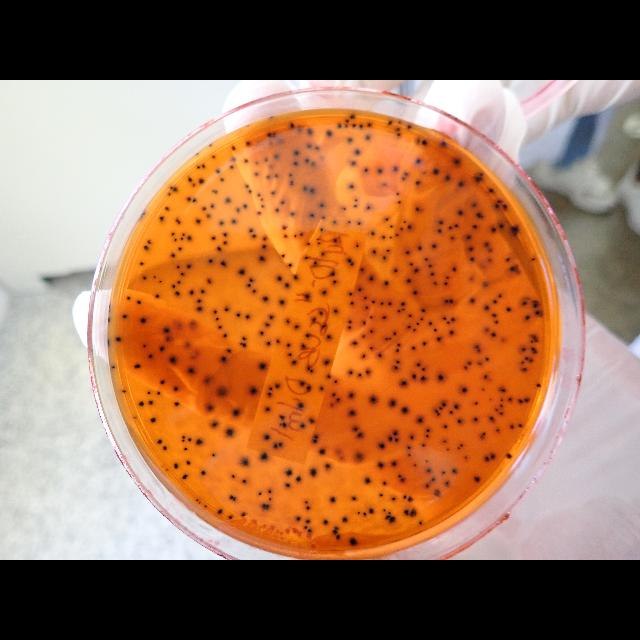colony: (222, 424, 238, 440), (213, 385, 230, 399), (352, 450, 366, 464), (206, 418, 222, 430), (202, 373, 214, 387), (230, 407, 243, 419), (247, 385, 260, 397), (185, 364, 197, 376), (166, 354, 178, 366), (258, 451, 270, 462), (188, 318, 200, 329), (204, 402, 216, 412), (452, 156, 462, 168), (308, 467, 318, 478), (240, 457, 250, 467), (262, 432, 272, 442), (388, 398, 398, 408), (368, 395, 378, 405), (328, 494, 338, 504), (376, 460, 386, 470), (302, 292, 312, 302), (375, 167, 385, 176), (258, 362, 268, 371), (378, 440, 387, 450), (333, 448, 342, 457), (352, 148, 362, 156), (400, 406, 410, 414), (317, 447, 327, 455), (284, 468, 294, 476), (260, 502, 270, 510), (348, 538, 358, 546), (433, 488, 441, 498), (438, 140, 448, 148), (456, 180, 466, 188), (480, 280, 490, 288), (174, 321, 182, 331), (436, 373, 446, 381), (337, 454, 345, 464), (195, 438, 203, 447), (363, 133, 372, 141), (399, 379, 408, 387), (363, 477, 372, 485), (432, 168, 441, 176), (348, 409, 357, 417), (409, 508, 416, 518), (200, 469, 208, 477), (139, 316, 147, 324), (142, 244, 150, 252), (162, 326, 170, 334), (262, 295, 270, 303), (238, 268, 246, 276), (230, 218, 238, 226), (224, 196, 232, 204), (293, 149, 301, 157), (305, 142, 313, 150), (306, 128, 314, 136), (325, 129, 333, 137), (346, 136, 354, 144), (392, 165, 400, 173), (430, 242, 438, 250), (347, 391, 355, 399), (258, 254, 266, 262), (329, 270, 337, 278), (323, 358, 331, 366), (473, 475, 481, 483), (390, 459, 398, 467), (460, 386, 468, 394), (347, 182, 355, 190), (444, 174, 452, 182), (194, 348, 202, 356), (498, 222, 506, 230), (511, 224, 519, 232), (132, 363, 142, 369), (194, 218, 202, 225), (349, 160, 357, 167), (400, 175, 408, 182), (456, 210, 464, 217), (509, 264, 516, 272), (190, 354, 197, 361), (272, 443, 280, 449), (173, 462, 179, 470), (156, 438, 164, 444), (150, 416, 156, 424), (115, 336, 123, 342), (159, 215, 165, 223), (189, 288, 195, 296), (195, 306, 203, 312), (220, 356, 228, 362), (164, 336, 172, 342), (158, 346, 166, 352), (278, 299, 286, 305), (197, 178, 205, 184), (230, 157, 238, 163), (293, 160, 299, 168), (289, 122, 295, 130), (296, 125, 302, 133), (362, 167, 370, 173), (414, 206, 422, 212), (412, 268, 420, 274), (419, 375, 427, 381), (410, 373, 418, 379), (298, 381, 306, 387), (297, 402, 305, 408), (264, 406, 272, 412), (278, 414, 286, 420), (300, 422, 306, 430), (308, 416, 314, 424), (311, 438, 319, 444), (324, 463, 332, 469), (295, 476, 303, 482), (240, 511, 248, 517), (216, 508, 224, 514), (302, 184, 308, 192), (310, 186, 316, 194), (276, 275, 284, 281), (388, 517, 396, 523), (404, 508, 410, 516), (387, 435, 393, 443), (505, 453, 513, 459), (452, 404, 460, 410), (416, 417, 424, 423), (356, 432, 364, 438), (352, 426, 360, 432), (320, 289, 328, 295), (366, 204, 372, 212), (386, 120, 394, 126), (420, 140, 428, 146), (474, 176, 482, 182), (502, 202, 508, 210), (475, 212, 483, 218), (468, 297, 476, 303), (490, 331, 498, 337), (484, 326, 490, 334), (182, 474, 188, 481), (138, 399, 144, 406), (148, 399, 154, 406), (170, 252, 177, 258), (183, 342, 190, 348), (187, 175, 193, 182), (245, 141, 252, 147), (205, 278, 212, 284), (248, 228, 255, 234), (484, 305, 491, 311), (479, 434, 485, 441), (416, 158, 422, 165), (491, 225, 497, 232), (279, 440, 283, 450), (231, 474, 237, 480), (241, 478, 247, 484), (210, 452, 216, 458), (185, 460, 191, 466), (162, 445, 168, 451), (183, 446, 189, 452), (160, 379, 166, 385), (174, 401, 180, 407), (148, 353, 154, 359), (110, 364, 116, 370), (122, 313, 128, 319), (146, 239, 152, 245), (164, 206, 170, 212), (174, 290, 180, 296), (226, 348, 232, 354), (241, 336, 247, 342), (266, 340, 272, 346), (269, 314, 275, 320), (220, 260, 226, 266), (208, 258, 214, 264), (216, 246, 222, 252), (219, 220, 225, 226), (206, 213, 212, 219), (201, 206, 207, 212), (209, 203, 215, 209), (192, 197, 198, 203), (187, 196, 193, 202), (172, 186, 178, 192), (215, 168, 221, 174), (231, 145, 237, 151), (256, 210, 262, 216), (270, 190, 276, 196), (304, 158, 310, 164), (337, 122, 343, 128), (350, 114, 356, 120), (358, 123, 364, 129), (366, 122, 372, 128), (403, 171, 409, 177), (382, 182, 388, 188), (406, 224, 412, 230), (417, 245, 423, 251), (432, 280, 438, 286), (406, 278, 412, 284), (412, 290, 418, 296), (416, 362, 422, 368), (420, 366, 426, 372), (326, 374, 332, 380), (348, 370, 354, 376), (274, 383, 280, 389), (313, 434, 319, 440), (285, 482, 291, 488), (228, 514, 234, 520), (236, 312, 242, 318), (319, 202, 325, 208), (309, 212, 315, 218), (320, 215, 326, 221), (281, 225, 287, 231), (282, 233, 288, 239), (332, 237, 338, 243), (312, 260, 318, 266), (293, 274, 299, 280), (284, 282, 290, 288), (352, 340, 358, 346), (326, 334, 332, 340), (228, 494, 234, 500), (296, 516, 302, 522), (323, 519, 329, 525), (335, 534, 341, 540), (341, 516, 347, 522), (368, 508, 374, 514), (384, 514, 390, 520), (392, 430, 398, 436), (484, 456, 490, 462), (490, 453, 496, 459), (473, 416, 479, 422), (457, 418, 463, 424), (489, 415, 495, 421), (536, 382, 542, 388), (318, 310, 324, 316), (370, 231, 376, 237), (332, 220, 338, 226), (352, 203, 358, 209), (407, 124, 413, 130), (395, 126, 401, 132), (396, 132, 402, 138), (488, 187, 494, 193), (496, 198, 502, 204), (494, 203, 500, 209), (471, 202, 477, 208), (466, 234, 472, 240), (468, 246, 474, 252), (469, 256, 475, 262), (451, 266, 457, 272), (448, 298, 454, 304), (450, 316, 456, 322), (492, 298, 498, 304), (506, 306, 512, 312), (520, 346, 526, 352), (528, 357, 534, 363), (524, 314, 530, 320), (535, 310, 541, 316), (522, 300, 528, 306), (532, 302, 538, 308), (383, 280, 389, 286), (415, 180, 421, 186), (512, 231, 518, 237), (484, 241, 490, 247), (505, 256, 511, 262), (500, 337, 506, 343), (474, 343, 480, 349), (476, 347, 482, 353), (484, 356, 490, 362), (476, 360, 482, 366), (522, 366, 528, 372), (449, 329, 455, 335), (106, 338, 110, 346), (107, 316, 111, 324), (392, 366, 400, 370), (290, 360, 298, 364), (530, 334, 538, 338), (306, 504, 310, 512), (188, 437, 192, 443), (174, 386, 178, 392), (136, 300, 142, 304), (126, 296, 132, 300), (154, 294, 160, 298), (186, 236, 192, 240), (186, 264, 192, 268), (172, 284, 176, 290), (201, 289, 205, 295), (197, 298, 201, 304), (212, 310, 218, 314), (222, 334, 228, 338), (276, 338, 280, 344), (286, 343, 292, 347), (300, 344, 306, 348), (294, 324, 300, 328), (286, 318, 290, 324), (266, 322, 270, 328), (246, 283, 252, 287), (222, 241, 228, 245), (222, 232, 228, 236), (200, 164, 206, 168), (244, 158, 248, 164), (254, 172, 260, 176), (244, 184, 250, 188), (242, 204, 248, 208), (274, 208, 280, 212), (280, 200, 286, 204), (288, 173, 294, 177), (274, 174, 280, 178), (310, 162, 316, 166), (314, 146, 320, 150), (396, 200, 402, 204), (400, 302, 406, 306), (436, 337, 442, 341), (411, 346, 417, 350), (305, 386, 311, 390), (268, 387, 274, 391), (266, 392, 272, 396), (282, 422, 286, 428), (224, 306, 228, 312), (246, 314, 250, 320), (290, 212, 296, 216), (306, 242, 312, 246), (320, 252, 326, 256), (304, 256, 310, 260), (288, 262, 292, 268), (280, 254, 286, 258), (261, 244, 267, 248), (262, 236, 268, 240), (332, 280, 338, 284), (348, 257, 352, 263), (360, 266, 364, 272), (358, 286, 362, 292), (362, 353, 366, 359), (306, 518, 310, 524), (332, 530, 338, 534), (408, 496, 412, 502), (392, 496, 396, 502), (430, 478, 436, 482), (445, 480, 449, 486), (452, 468, 456, 474), (426, 468, 432, 472), (382, 480, 386, 486), (352, 496, 356, 502), (410, 434, 414, 440), (484, 374, 488, 380), (448, 410, 454, 414), (438, 406, 444, 410), (334, 308, 338, 314), (354, 244, 360, 248), (356, 221, 362, 225), (346, 220, 352, 224), (416, 138, 420, 144), (472, 225, 478, 229), (438, 220, 444, 224), (450, 236, 456, 240), (443, 316, 447, 322), (492, 313, 498, 317), (369, 276, 375, 280), (330, 402, 334, 408), (220, 176, 224, 182), (192, 182, 196, 188), (266, 132, 272, 136), (272, 132, 276, 138), (488, 246, 492, 252), (468, 360, 472, 366), (464, 364, 468, 370), (181, 435, 185, 439), (147, 391, 151, 395), (157, 391, 161, 395), (142, 276, 146, 280), (140, 262, 144, 266), (171, 232, 175, 236), (178, 247, 182, 251), (182, 233, 186, 237), (176, 265, 180, 269), (180, 272, 184, 276), (177, 280, 181, 284), (216, 317, 220, 321), (218, 325, 222, 329), (143, 344, 147, 348), (239, 342, 243, 346), (242, 343, 246, 347), (260, 331, 264, 335), (288, 353, 292, 357), (306, 334, 310, 338), (252, 289, 256, 293), (249, 278, 253, 282), (212, 236, 216, 240), (168, 192, 172, 196), (169, 186, 173, 190), (230, 165, 234, 169), (248, 189, 252, 193), (236, 208, 240, 212), (260, 197, 264, 201), (261, 204, 265, 208), (266, 175, 270, 179), (264, 158, 268, 162), (274, 155, 278, 159), (344, 124, 348, 128), (345, 119, 349, 123), (352, 124, 356, 128), (396, 192, 400, 196), (400, 227, 404, 231), (390, 225, 394, 229), (382, 235, 386, 239), (424, 257, 428, 261), (406, 251, 410, 255), (410, 262, 414, 266), (428, 264, 432, 268), (431, 272, 435, 276), (388, 302, 392, 306), (408, 314, 412, 318), (421, 308, 425, 312), (428, 321, 432, 325), (412, 328, 416, 332), (422, 342, 426, 346), (396, 349, 400, 353), (396, 360, 400, 364), (378, 353, 382, 357), (336, 398, 340, 402), (332, 393, 336, 397), (320, 386, 324, 390), (334, 380, 338, 384), (358, 373, 362, 377), (365, 370, 369, 374), (258, 492, 262, 496), (320, 228, 324, 232), (294, 234, 298, 238), (300, 232, 304, 236), (316, 237, 320, 241), (252, 234, 256, 238), (350, 262, 354, 266), (349, 292, 353, 296), (350, 301, 354, 305), (365, 305, 369, 309), (372, 300, 376, 304), (382, 315, 386, 319), (369, 315, 373, 319), (362, 320, 366, 324), (348, 320, 352, 324), (348, 326, 352, 330), (369, 329, 373, 333), (362, 334, 366, 338), (369, 346, 373, 350), (232, 497, 236, 501), (307, 529, 311, 533), (334, 526, 338, 530), (363, 512, 367, 516), (382, 508, 386, 512), (418, 521, 422, 525), (403, 495, 407, 499), (398, 474, 402, 478), (400, 478, 404, 482), (379, 493, 383, 497), (395, 438, 399, 442), (407, 445, 411, 449), (426, 428, 430, 432), (425, 434, 429, 438), (444, 425, 448, 429), (518, 423, 522, 427), (510, 424, 514, 428), (496, 428, 500, 432), (482, 432, 486, 436), (494, 408, 498, 412), (499, 404, 503, 408), (508, 397, 512, 401), (519, 399, 523, 403), (524, 398, 528, 402), (502, 388, 506, 392), (475, 401, 479, 405), (442, 402, 446, 406), (437, 412, 441, 416), (322, 324, 326, 328), (312, 318, 316, 322), (372, 250, 376, 254), (386, 249, 390, 253), (382, 256, 386, 260), (342, 206, 346, 210), (354, 198, 358, 202), (398, 120, 402, 124), (479, 172, 483, 176), (454, 224, 458, 228), (449, 226, 453, 230), (438, 229, 442, 233), (446, 276, 450, 280), (444, 281, 448, 285), (444, 299, 448, 303), (446, 321, 450, 325), (498, 294, 502, 298), (494, 320, 498, 324), (525, 356, 529, 360), (531, 347, 535, 351), (534, 339, 538, 343), (394, 268, 398, 272), (304, 500, 308, 504), (422, 171, 426, 175), (488, 258, 492, 262), (531, 257, 535, 261), (469, 276, 473, 280), (175, 238, 178, 242), (197, 165, 200, 169), (212, 155, 215, 159), (215, 190, 218, 194), (289, 182, 293, 185), (403, 220, 407, 223), (416, 322, 419, 326), (268, 491, 272, 494), (307, 366, 311, 369), (442, 471, 446, 474), (501, 398, 504, 402), (181, 440, 185, 442), (122, 390, 126, 392), (176, 218, 178, 222), (257, 194, 261, 196), (290, 180, 294, 182), (255, 162, 259, 164), (386, 218, 388, 222), (402, 308, 404, 312), (407, 326, 411, 328), (434, 328, 436, 332), (397, 344, 401, 346), (280, 422, 282, 426), (205, 504, 207, 508), (198, 502, 202, 504), (196, 498, 198, 502), (318, 241, 320, 245), (364, 296, 366, 300), (384, 338, 388, 340), (388, 338, 392, 340), (394, 332, 396, 336), (310, 370, 314, 372), (133, 416, 137, 418), (304, 526, 308, 528), (388, 512, 392, 514), (426, 484, 428, 488), (443, 440, 447, 442), (464, 456, 468, 458), (500, 411, 502, 415), (435, 410, 439, 412), (533, 350, 537, 352), (178, 220, 180, 223), (180, 238, 183, 240), (390, 237, 392, 240), (421, 318, 424, 320), (381, 302, 384, 304), (446, 448, 449, 450), (522, 361, 524, 364), (154, 276, 156, 278), (159, 281, 161, 283), (212, 190, 214, 192), (396, 234, 398, 236), (398, 310, 400, 312), (269, 498, 271, 500), (166, 469, 168, 471), (358, 512, 360, 514), (426, 460, 428, 462), (414, 464, 416, 466), (408, 454, 410, 456), (422, 444, 424, 446), (460, 444, 462, 446), (458, 447, 460, 449), (482, 388, 484, 390), (490, 399, 492, 401), (531, 340, 533, 342)
